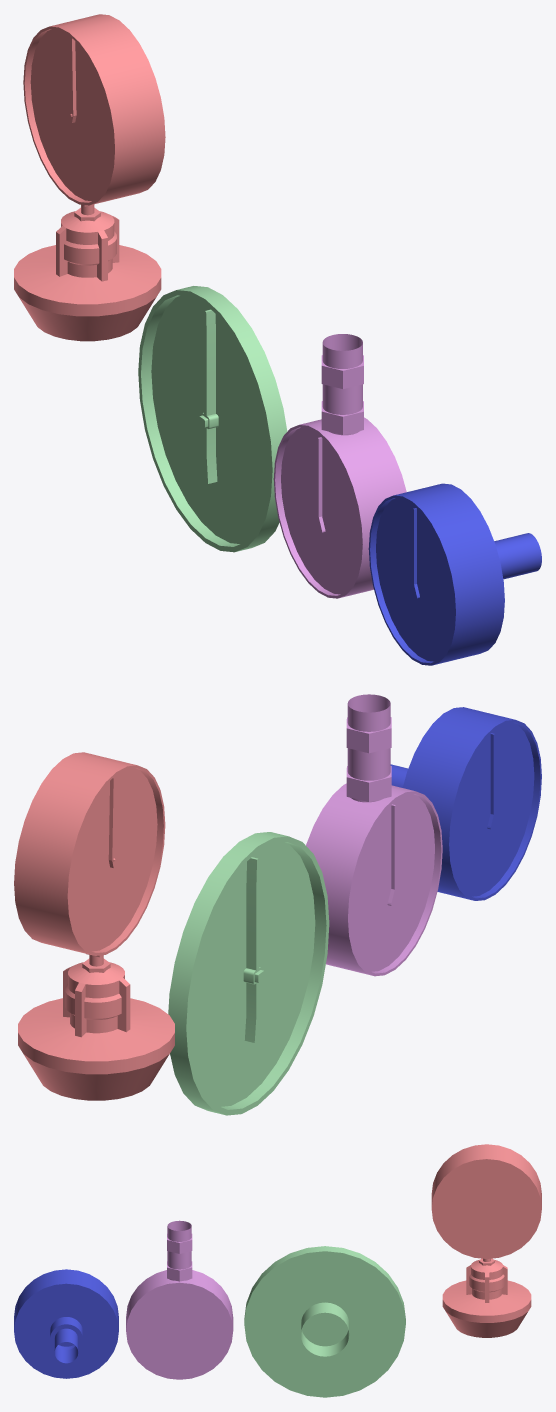
Rendered from Pressure-SPP-ALLINONE.fbx.
3 views of the same model, one above another, from view 1: azimuth 30°, elevation 25°; view 2: azimuth 150°, elevation 25°; view 3: azimuth 270°, elevation 25° (orthographic). The views are drawn at different scales.
Visible parts, largest first — view 1: Pressure-Bottom, Pressure-RoundBig, Pressure-Behind, Pressure-Top, Pressure-RoundBig-Pointer; view 2: Pressure-Bottom, Pressure-RoundBig, Pressure-Top, Pressure-Behind, Pressure-RoundBig-Pointer, Pressure-Top-Pointer, Pressure-Behind-Pointer; view 3: Pressure-RoundBig, Pressure-Bottom, Pressure-Top, Pressure-Behind.
Boxes of the visible parts, bbox=[...] form: Pressure-Bottom: bbox=[14, 14, 165, 341]; Pressure-RoundBig: bbox=[138, 286, 287, 552]; Pressure-Behind: bbox=[368, 483, 541, 665]; Pressure-Top: bbox=[273, 334, 406, 598]; Pressure-RoundBig-Pointer: bbox=[199, 309, 218, 483]; Pressure-Bottom: bbox=[14, 752, 174, 1100]; Pressure-RoundBig: bbox=[168, 832, 329, 1115]; Pressure-Top: bbox=[306, 694, 442, 976]; Pressure-Behind: bbox=[390, 707, 541, 900]; Pressure-RoundBig-Pointer: bbox=[243, 857, 264, 1042]; Pressure-Top-Pointer: bbox=[387, 804, 399, 905]; Pressure-Behind-Pointer: bbox=[487, 733, 497, 829]; Pressure-RoundBig: bbox=[244, 1246, 405, 1397]; Pressure-Bottom: bbox=[431, 1144, 541, 1337]; Pressure-Top: bbox=[126, 1220, 233, 1379]; Pressure-Behind: bbox=[14, 1269, 118, 1378].
Bounding box in the file's own units: 13.62 × 33.83 × 65.33.
